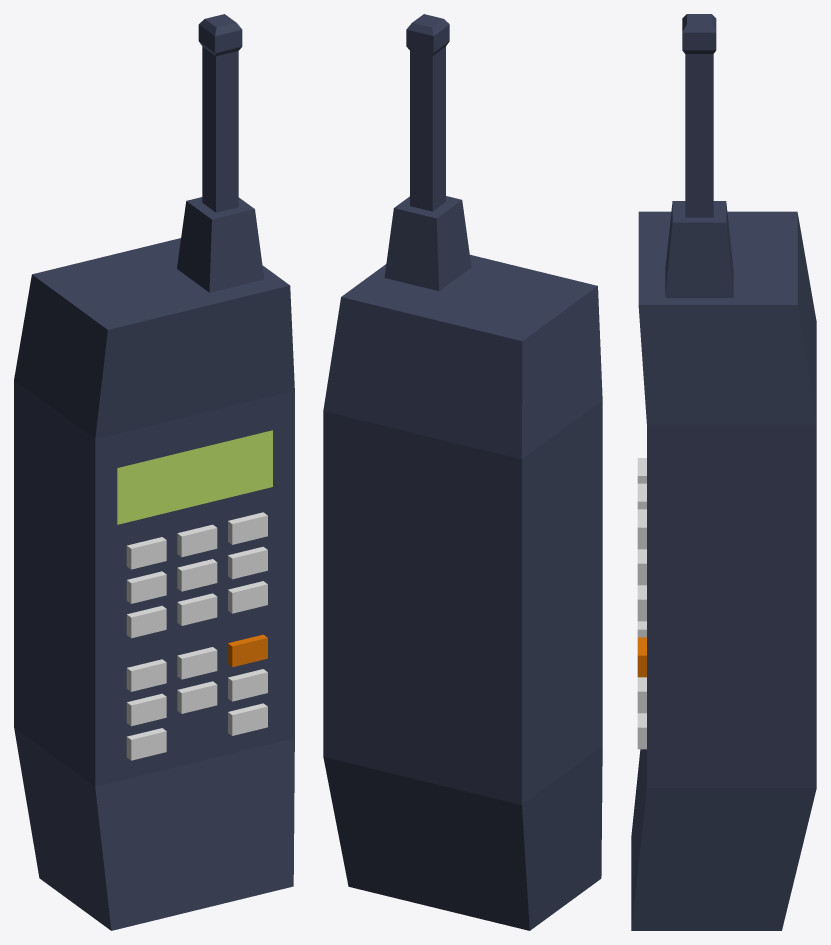
File: phone_1.fbx
3 views of the same model, side by side, from view 1: azimuth 30°, elevation 25°; view 2: azimuth 150°, elevation 25°; view 3: azimuth 270°, elevation 25° (orthographic). The views are drawn at different scales.
Parts seen in each view (by area): view 1: Cube; view 2: Cube; view 3: Cube.
Boxes of the visible parts, x1,y1,x2,y2 form: Cube: (14,14,294,930); Cube: (323,14,602,930); Cube: (631,14,816,930).
Bounding box in the file's own units: 79.04 × 322 × 60.78.
